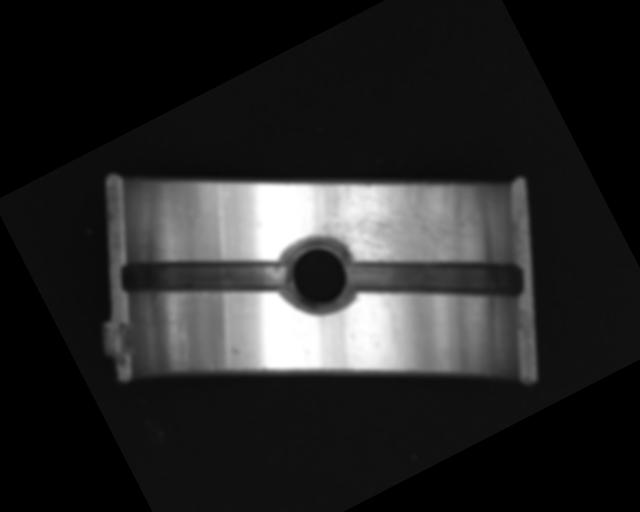bruise: (229, 343, 242, 356)
gap: (347, 201, 527, 358), (116, 201, 291, 350)
hole: (270, 225, 366, 325)
nick: (164, 320, 204, 370)
scratch: (294, 134, 486, 318)
